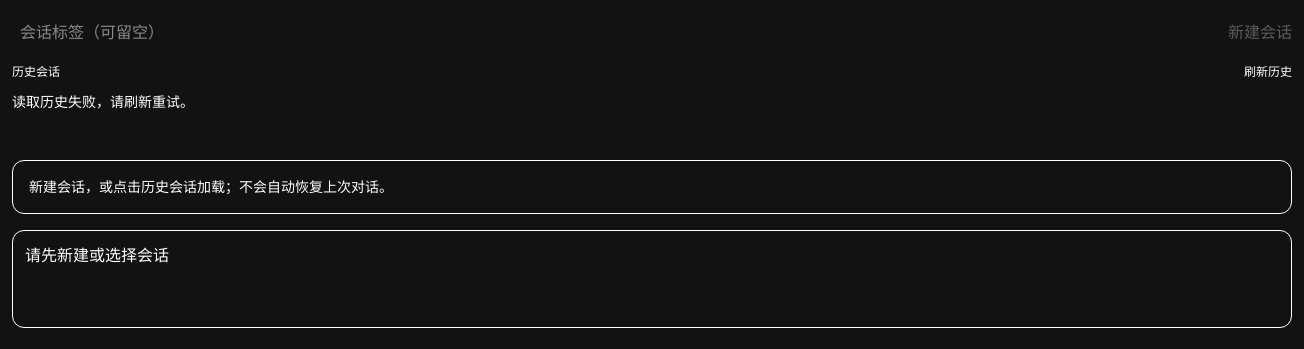
Test: retries failed list reads and does not delete running Sessions
Expected: the message "读取历史失败，请刷新重试。" is shown, [12,92,194,111]
Click the button "刷新历史".
click(1268, 72)  # box [1244,64,1292,80]
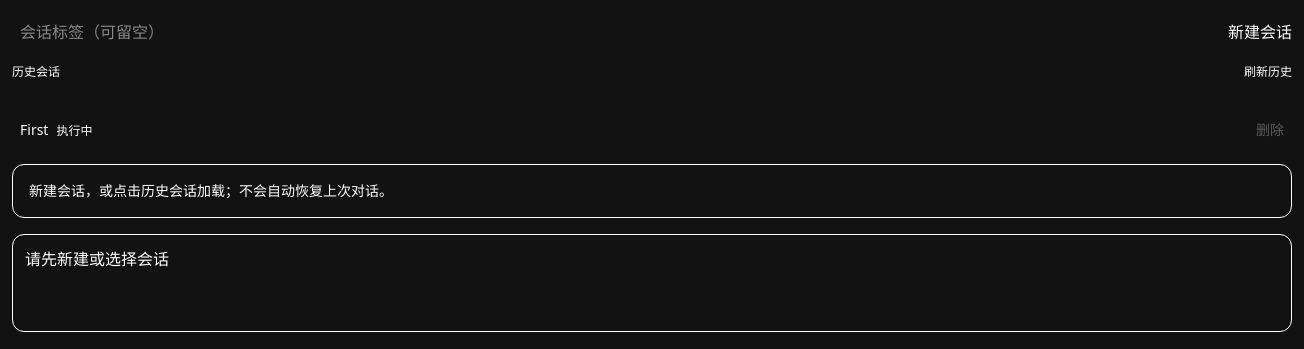
Expected: the button "First执行中" is shown, [20,120,1248,140]
Expected: the button with aria-label "删除会话 First" is disabled, [1256,120,1284,140]
